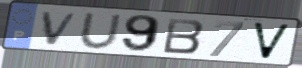7: (208, 20, 246, 58)
9: (120, 14, 165, 55)
B: (161, 16, 206, 55)
U: (78, 12, 124, 50)
V: (251, 21, 294, 62), (40, 10, 81, 47)
